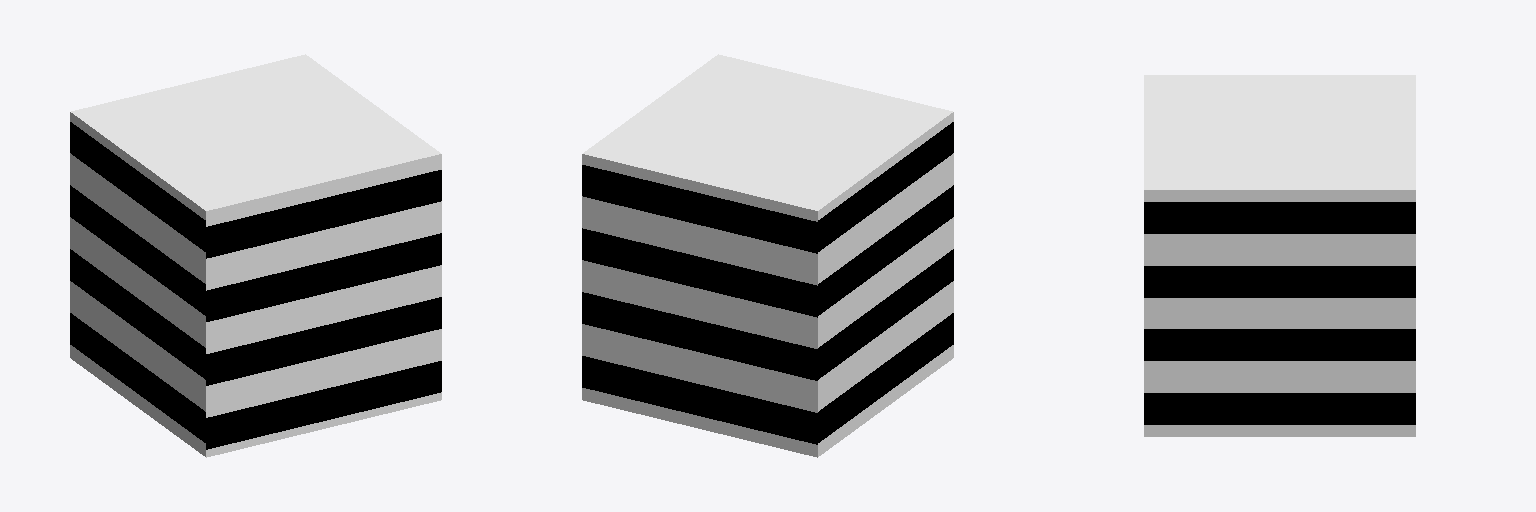
3 views of the same model, side by side, from view 1: azimuth 30°, elevation 25°; view 2: azimuth 150°, elevation 25°; view 3: azimuth 270°, elevation 25° (orthographic).
Visible parts, largest first — view 1: c2; view 2: c2; view 3: c2.
Part boxes in pixels (left/top/right/bottom): c2: left=70, top=54, right=441, bottom=457; c2: left=582, top=54, right=953, bottom=457; c2: left=1144, top=75, right=1415, bottom=436.
Size of the model in its own units: 2 by 2 by 2.
Materials: 1 (1 with a texture image).